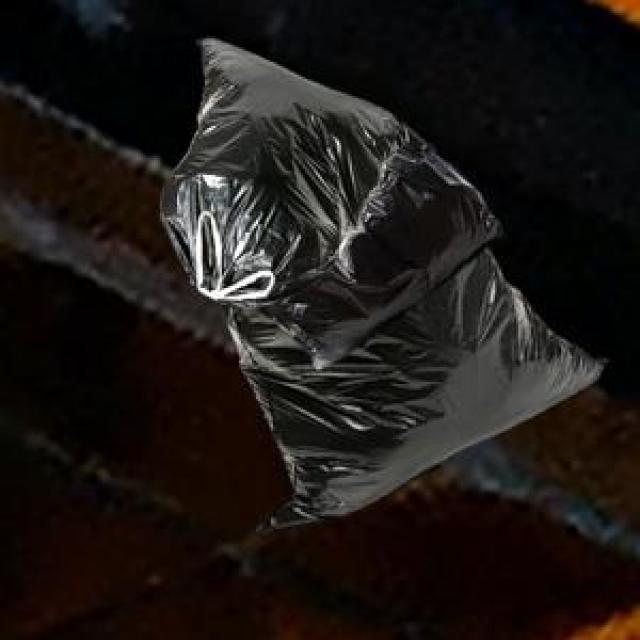Vinyl: (161, 39, 604, 526)
